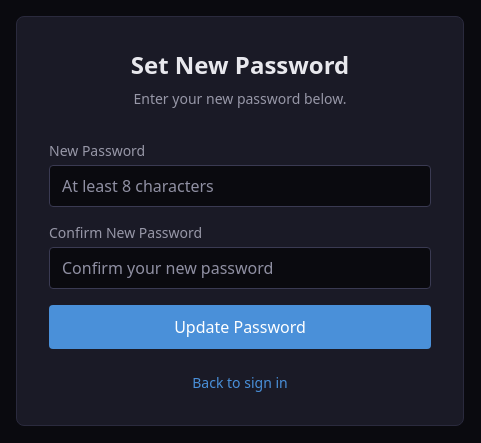
Test: ResetPasswordPage › submits and shows success on update
In the password field labelled "New Password": {"x": 240, "y": 186} [49, 165, 431, 207], type "newpassword123"
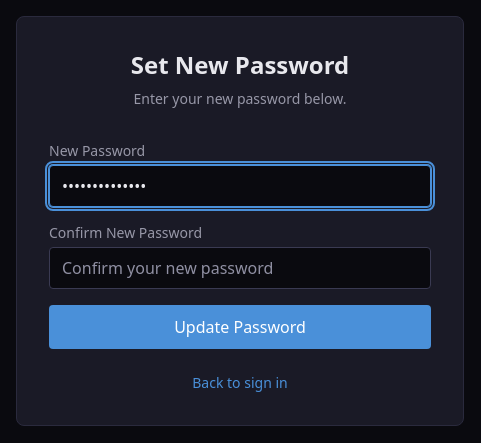
In the password field labelled "Confirm New Password": {"x": 240, "y": 268} [49, 247, 431, 289], type "newpassword123"
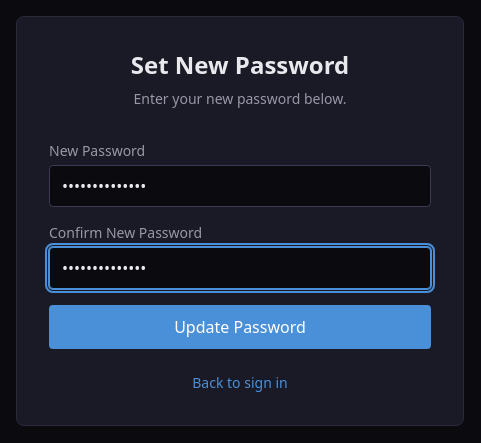
Click the button "Update Password": {"x": 240, "y": 327} [49, 305, 431, 349]
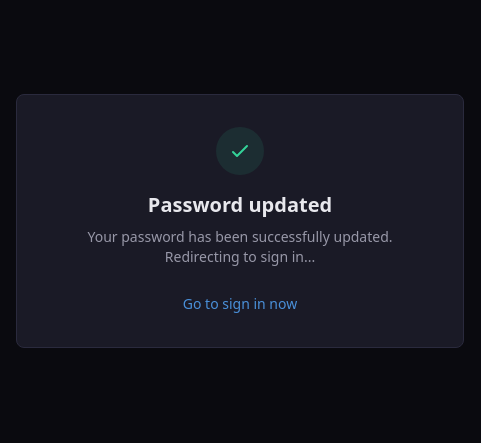
expect the heading "Password updated" is shown: met, box [148, 191, 332, 218]
